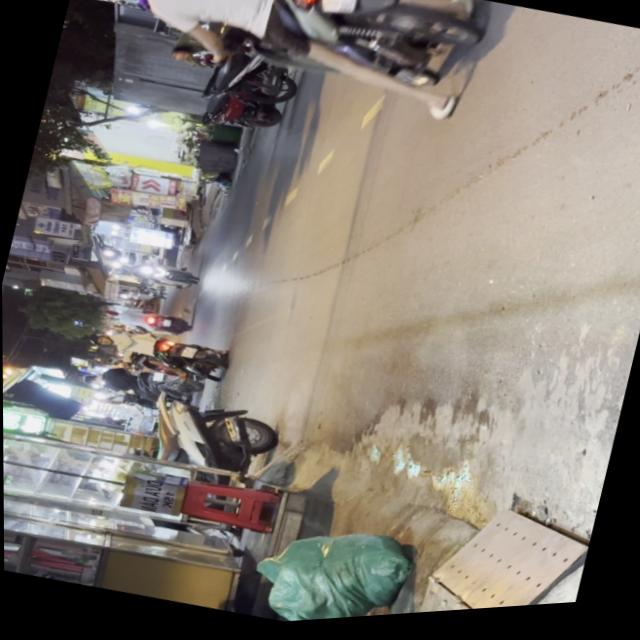licenseplate: (67, 0, 493, 138), (81, 314, 230, 391)
nohelmet: (319, 0, 358, 19)
